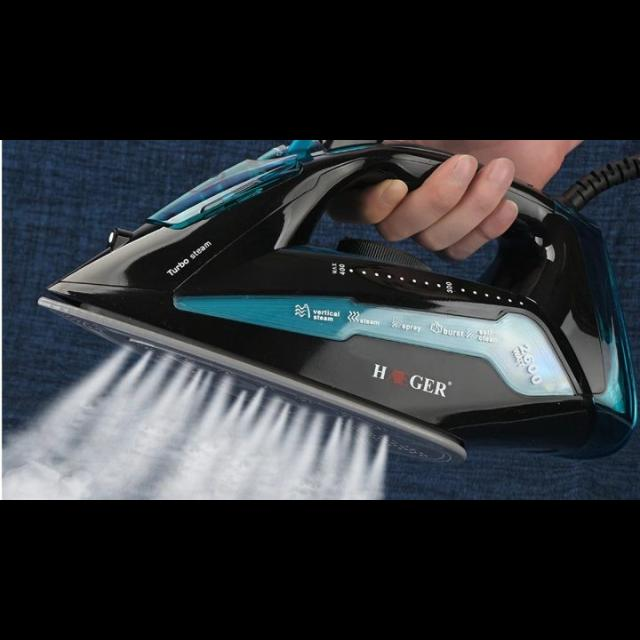Clothes-Iron: (74, 170, 506, 412)
